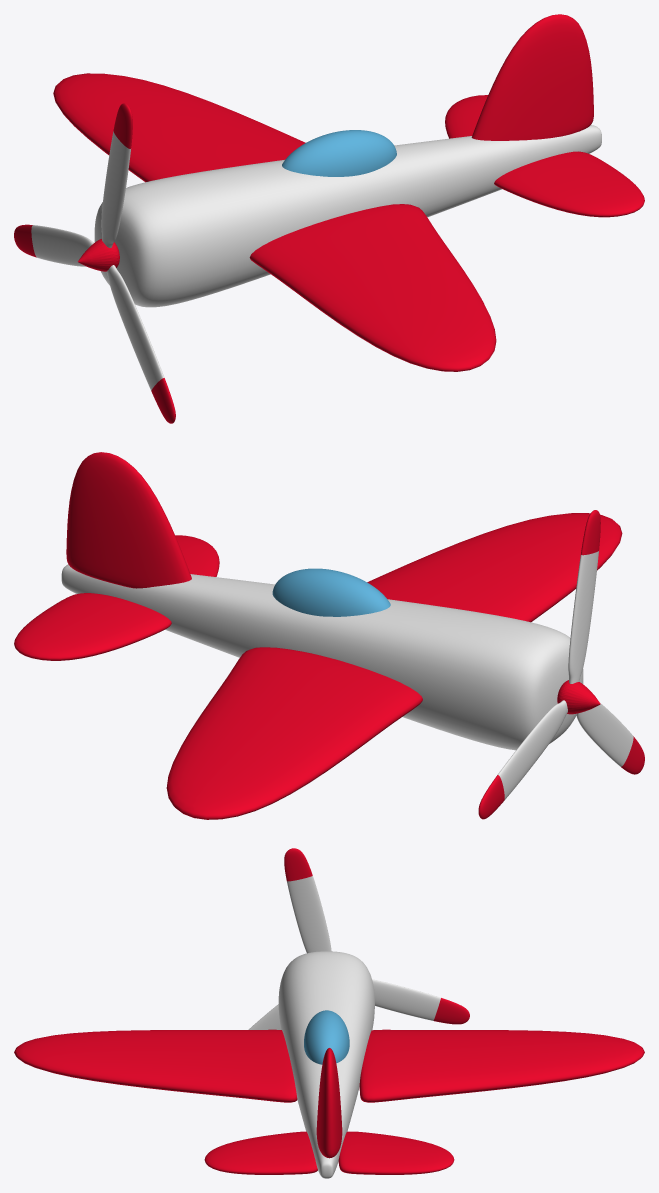
The picture shows the model from 3 angles, top to bottom: view 1: azimuth 30°, elevation 25°; view 2: azimuth 150°, elevation 25°; view 3: azimuth 270°, elevation 25°; orthographic projection. The views are drawn at different scales.
Parts seen in each view (by area): view 1: Cube.005; view 2: Cube.005; view 3: Cube.005.
Boxes of the visible parts, bbox=[...] form: Cube.005: bbox=[14, 14, 644, 423]; Cube.005: bbox=[14, 452, 644, 819]; Cube.005: bbox=[14, 848, 644, 1178].
Bounding box in the file's own units: 1.99 × 1.04 × 2.63.
